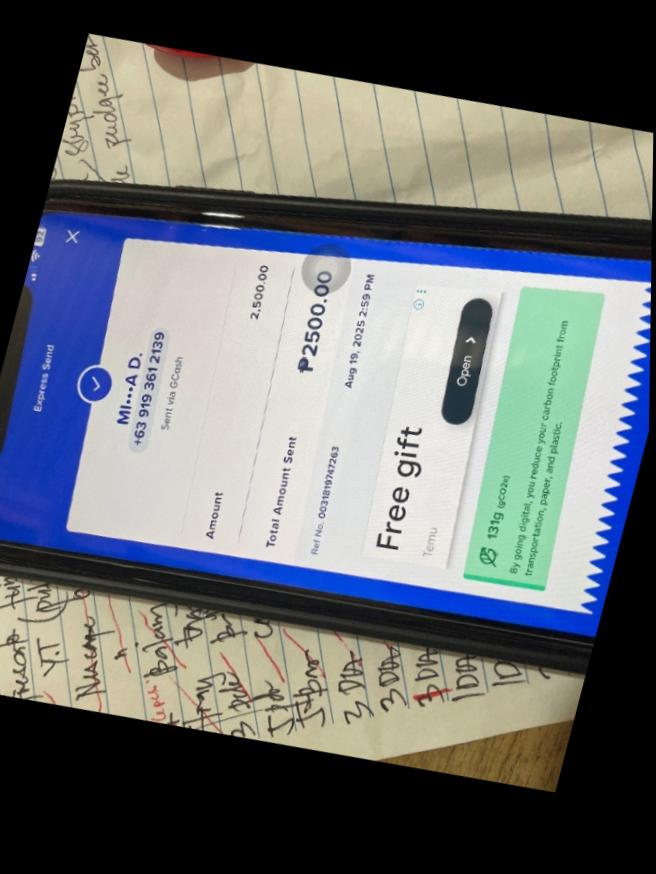Receipt: (0, 212, 651, 632)
